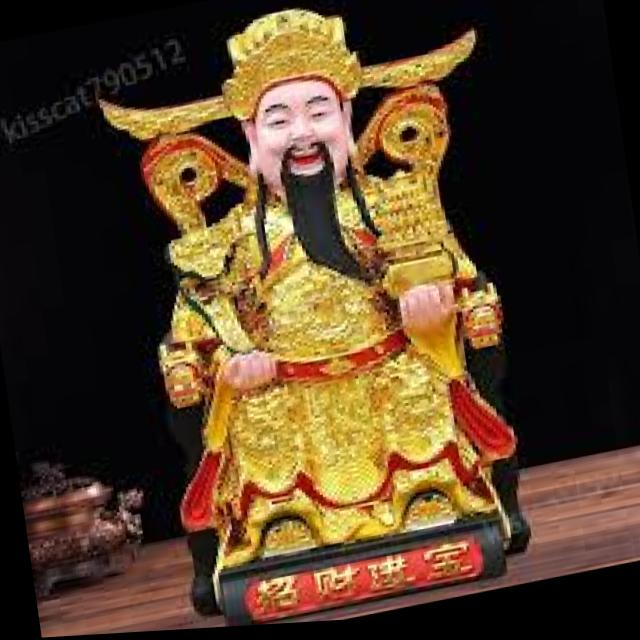Cai shen: (96, 0, 524, 556)
